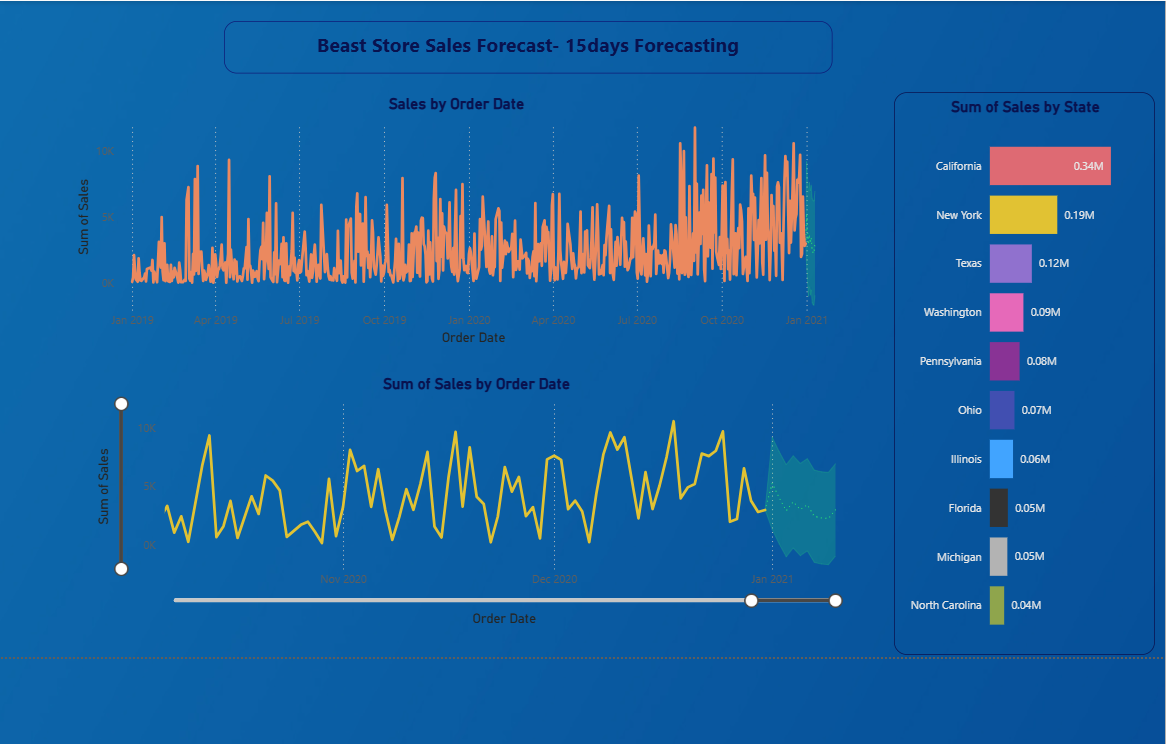

What the dashboard file says about the page in this screenshot:
{"tool":"powerbi","page":{"name":"Page 2","canvas":[1280,720],"ordinal":1},"visuals":[{"type":"lineChart","title":"Sales by Order Date","fields":{"Y":["Sum(SuperStore_Sales_Dataset.Sales)"],"Category":["SuperStore_Sales_Dataset.Order Date"]},"box":[80,103.3,845.3,279.3],"z":0},{"type":"lineChart","fields":{"Y":["Sum(SuperStore_Sales_Dataset.Sales)"],"Category":["SuperStore_Sales_Dataset.Order Date"]},"box":[101.8,410.3,845.3,279.3],"z":1000},{"type":"clusteredBarChart","fields":{"Category":["SuperStore_Sales_Dataset.State"],"Y":["Sum(SuperStore_Sales_Dataset.Sales)"]},"box":[982.5,100.2,286.8,617.5],"z":2000},{"type":"textbox","box":[247,22,668.3,57.6],"z":3000}]}

Visuals, with their boxes on the page's 1280x720 design canvas (x1, y1, x2, y2). These are canvas units, not pixel positions in the 1166x744 screenshot, which may show the page scaled, cropped or inside an application window:
"Sales by Order Date" lineChart: 80:103:925:383
lineChart - Sum(SuperStore_Sales_Dataset.Sales) x SuperStore_Sales_Dataset.Order Date: 102:410:947:690
clusteredBarChart - SuperStore_Sales_Dataset.State x Sum(SuperStore_Sales_Dataset.Sales): 982:100:1269:718
textbox: 247:22:915:80
